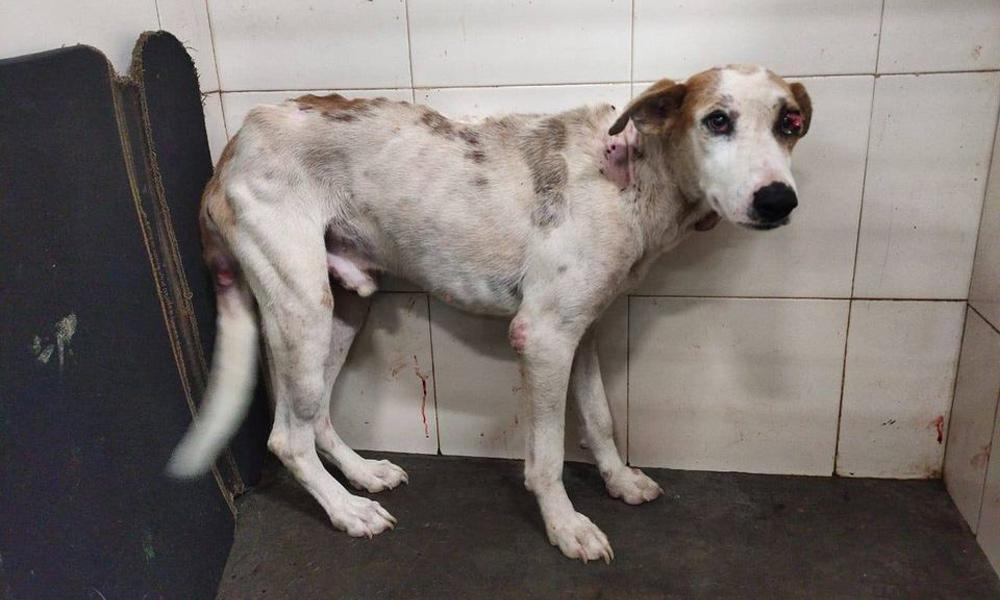infection: (589, 118, 679, 244), (198, 248, 255, 304), (764, 106, 813, 160)
